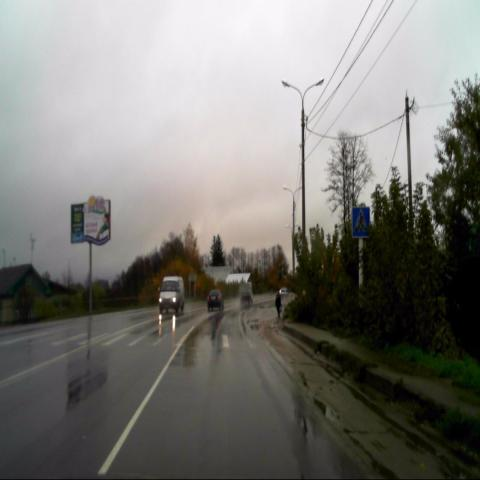5_19_1: (352, 205, 370, 238)
